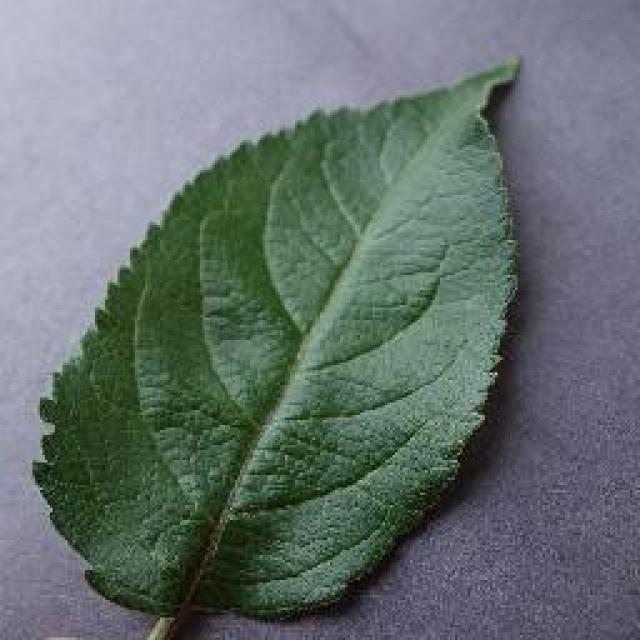apple healthy: (27, 52, 525, 632)
